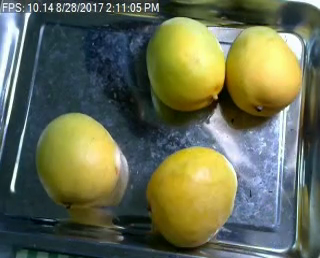Mango: (147, 144, 235, 248), (34, 112, 122, 206), (145, 15, 228, 112), (226, 27, 301, 117)
